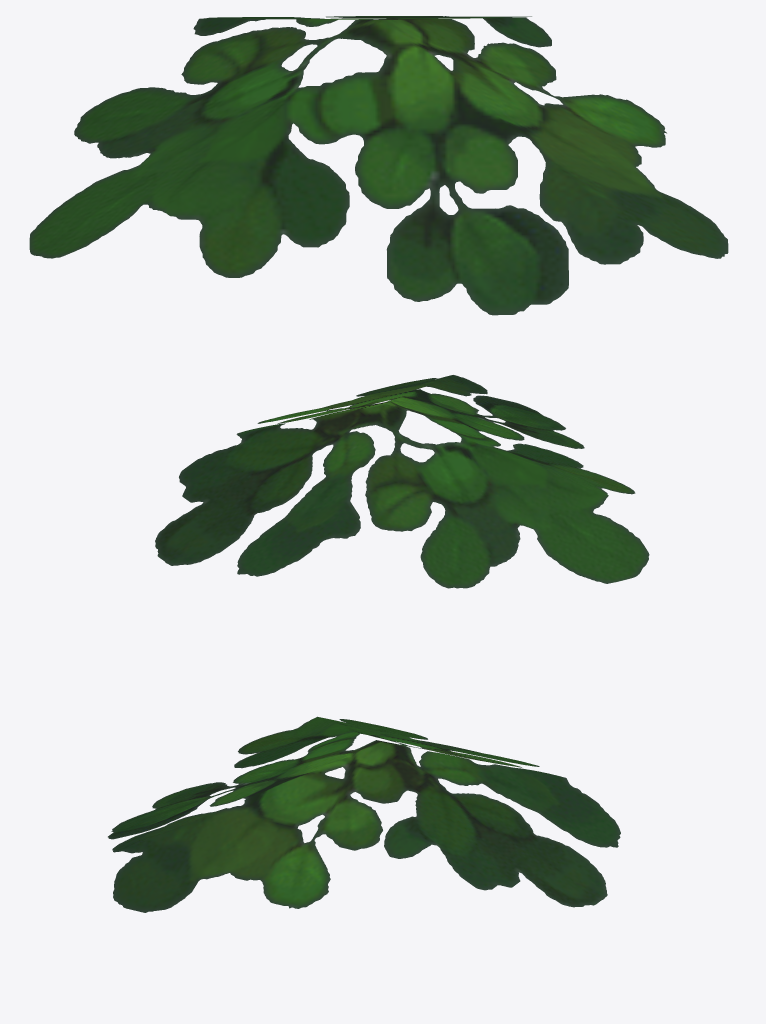
File: zhucheng_grass.FBX
3 renders of one model, top to bottom at view 1: azimuth 30°, elevation 25°; view 2: azimuth 150°, elevation 25°; view 3: azimuth 270°, elevation 25°, orthographic. The views are drawn at different scales.
Parts seen in each view (by area): view 1: zhucheng_grass; view 2: zhucheng_grass; view 3: zhucheng_grass.
Part boxes in pixels (x1,y1,x2,y2): zhucheng_grass: (29, 16, 728, 315); zhucheng_grass: (155, 375, 649, 588); zhucheng_grass: (108, 716, 620, 912).
Size of the model in its own units: 116 by 19.66 by 117.
